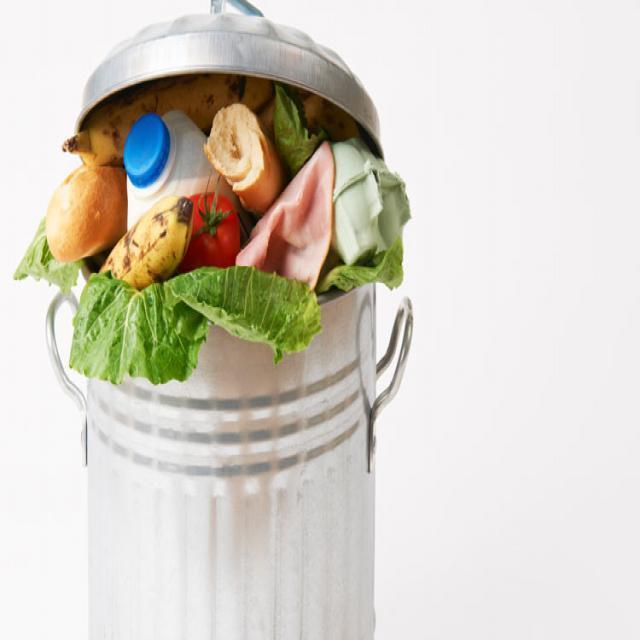bottles: (121, 109, 243, 242)
cups: (44, 275, 413, 639)
